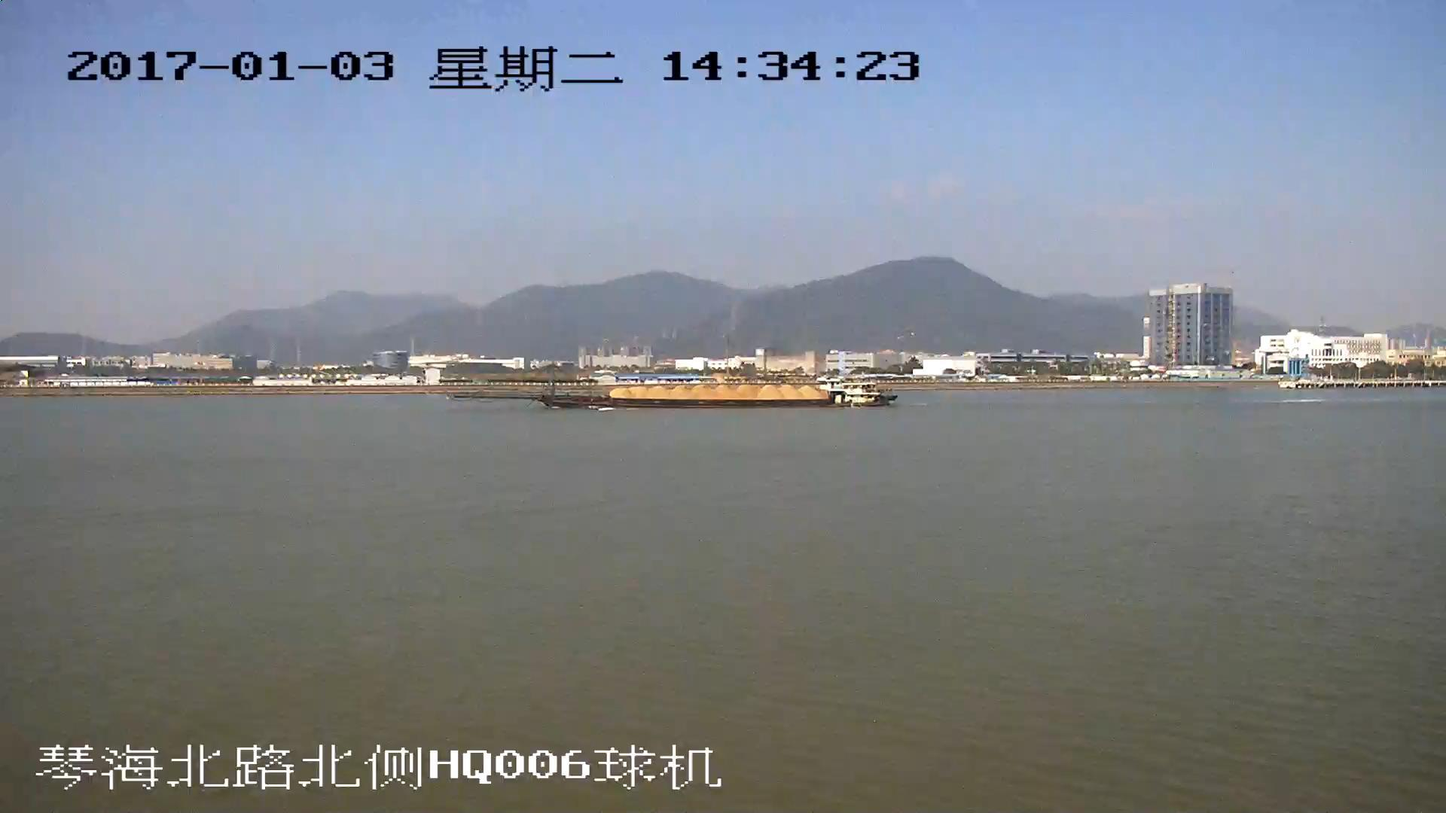ore carrier: (451, 371, 898, 410)
